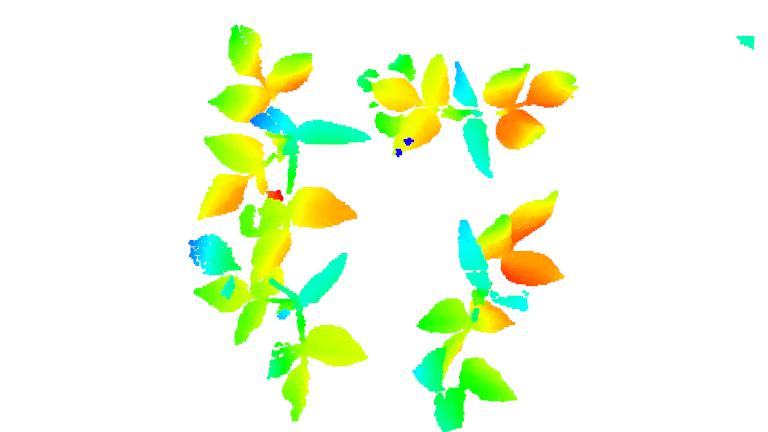mungbean: (182, 18, 371, 226), (411, 188, 565, 432), (184, 229, 370, 426), (359, 55, 584, 181)
